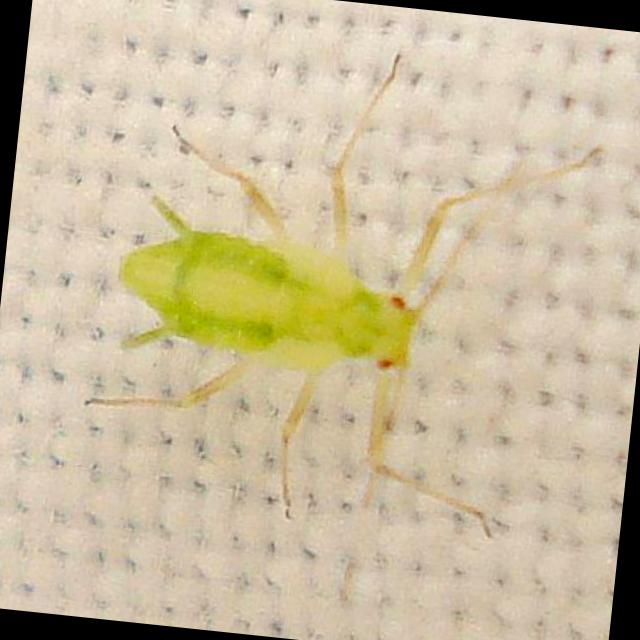Aphids: (51, 50, 578, 533)
